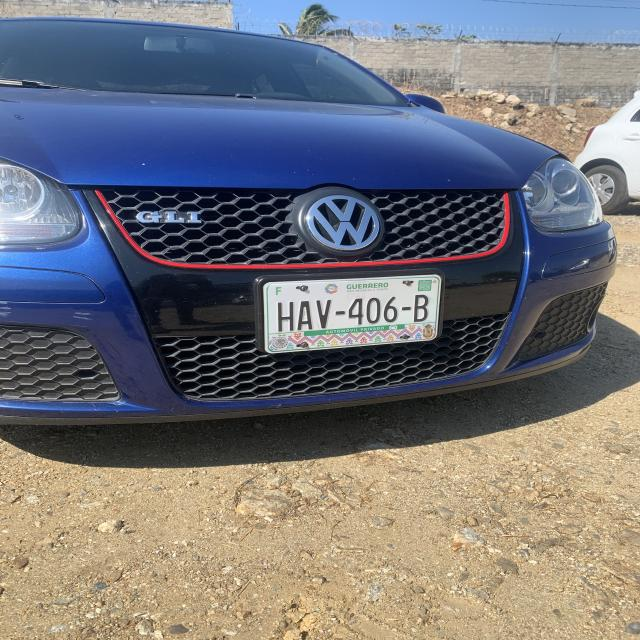placa: (267, 293, 438, 332)
